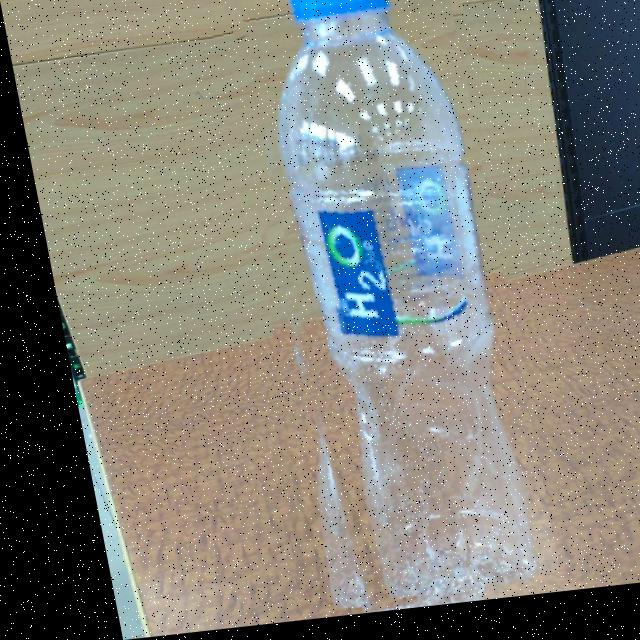plasticbottle: (193, 0, 539, 623)
plasticbottlecap: (219, 0, 404, 87)
